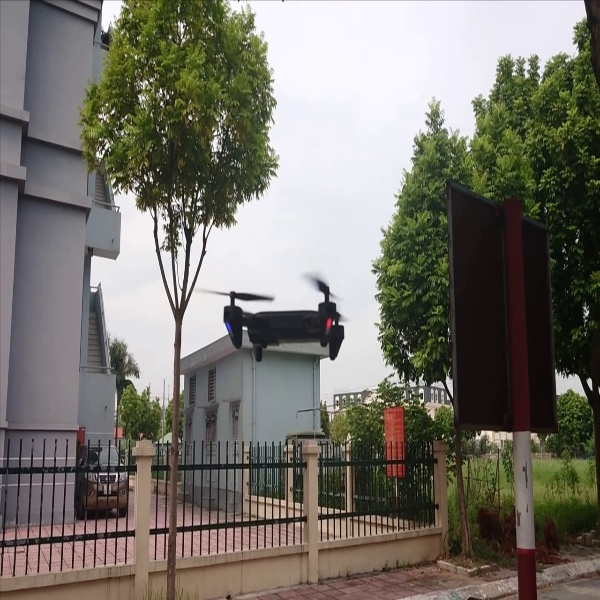drone: (196, 264, 350, 377)
